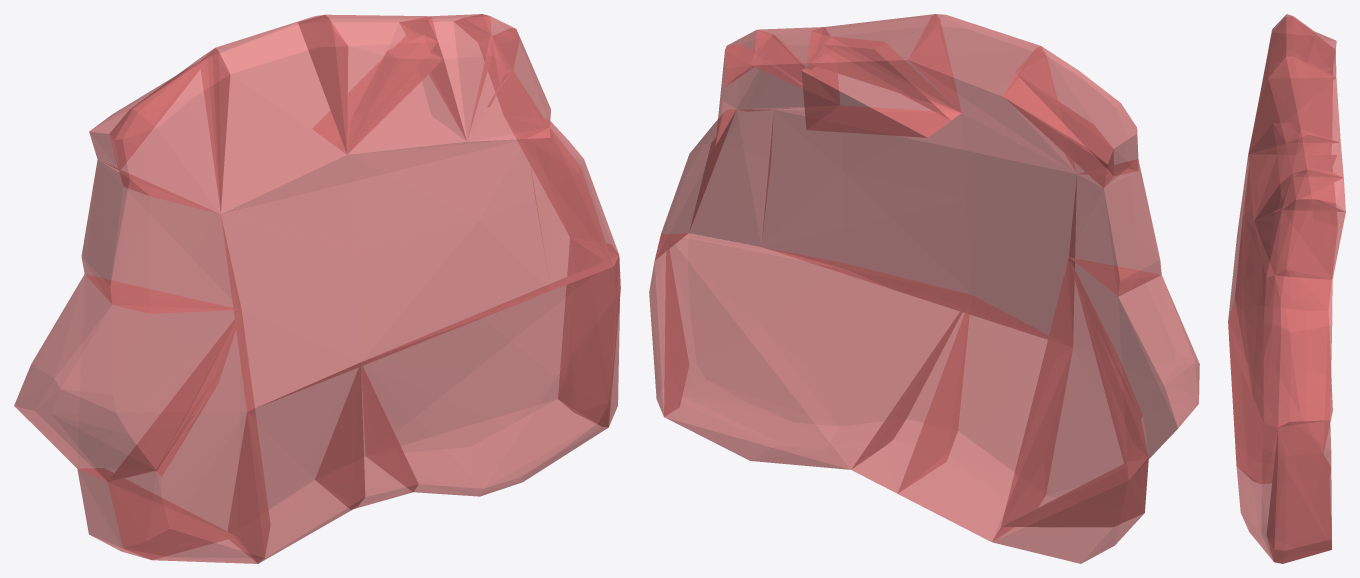
The model's file is env_excavationsite_mountainpiece03_col.fbx.
3 renders of one model, left to right at view 1: azimuth 30°, elevation 25°; view 2: azimuth 150°, elevation 25°; view 3: azimuth 270°, elevation 25°, orthographic. The views are drawn at different scales.
Parts seen in each view (by area): view 1: mountainpiece03_col_14, mountainpiece03_col_1, mountainpiece03_col_3, mountainpiece03_col_2, mountainpiece03_col_7, mountainpiece03_col_9, mountainpiece03_col_8, mountainpiece03_col_4, mountainpiece03_col_6, mountainpiece03_col_23, mountainpiece03_col_21, mountainpiece03_col_10 (+12 smaller); view 2: mountainpiece03_col_14, mountainpiece03_col_1, mountainpiece03_col_9, mountainpiece03_col_2, mountainpiece03_col_3, mountainpiece03_col_7, mountainpiece03_col_10, mountainpiece03_col_6, mountainpiece03_col_8, mountainpiece03_col_26, mountainpiece03_col_21, mountainpiece03_col_4 (+9 smaller); view 3: mountainpiece03_col_1, mountainpiece03_col_24, mountainpiece03_col_23, mountainpiece03_col_6, mountainpiece03_col_3, mountainpiece03_col_7, mountainpiece03_col_14, mountainpiece03_col_15, mountainpiece03_col_26, mountainpiece03_col_17, mountainpiece03_col_10, mountainpiece03_col_20 (+10 smaller).
Boxes of the visible parts, x1,y1,x2,y2 form: mountainpiece03_col_14: (221, 139, 550, 411); mountainpiece03_col_1: (361, 256, 620, 496); mountainpiece03_col_3: (14, 274, 241, 481); mountainpiece03_col_2: (107, 311, 270, 563); mountainpiece03_col_7: (201, 14, 348, 213); mountainpiece03_col_9: (228, 362, 365, 563); mountainpiece03_col_8: (81, 160, 241, 313); mountainpiece03_col_4: (109, 48, 230, 214); mountainpiece03_col_6: (298, 14, 437, 154); mountainpiece03_col_23: (558, 238, 619, 426); mountainpiece03_col_21: (526, 128, 613, 290); mountainpiece03_col_10: (315, 363, 418, 509); mountainpiece03_col_14: (761, 106, 1076, 346); mountainpiece03_col_1: (664, 233, 970, 469); mountainpiece03_col_9: (898, 296, 1072, 541); mountainpiece03_col_2: (1001, 258, 1148, 526); mountainpiece03_col_3: (1069, 258, 1199, 479); mountainpiece03_col_7: (908, 14, 1076, 173); mountainpiece03_col_10: (851, 299, 969, 493); mountainpiece03_col_6: (806, 14, 961, 112); mountainpiece03_col_8: (1069, 159, 1161, 296); mountainpiece03_col_26: (992, 458, 1148, 563); mountainpiece03_col_21: (689, 109, 773, 246); mountainpiece03_col_4: (1015, 46, 1138, 176); mountainpiece03_col_1: (1228, 322, 1331, 563); mountainpiece03_col_24: (1263, 275, 1332, 427); mountainpiece03_col_23: (1266, 420, 1331, 563); mountainpiece03_col_6: (1248, 56, 1340, 153); mountainpiece03_col_3: (1243, 169, 1337, 309); mountainpiece03_col_7: (1248, 16, 1336, 153); mountainpiece03_col_14: (1228, 136, 1262, 395); mountainpiece03_col_15: (1275, 199, 1345, 279); mountainpiece03_col_26: (1286, 309, 1332, 452); mountainpiece03_col_17: (1254, 129, 1343, 220); mountainpiece03_col_10: (1228, 323, 1330, 483); mountainpiece03_col_20: (1248, 154, 1336, 220).
Bounding box in the file's own units: 421 × 365 × 89.79.
